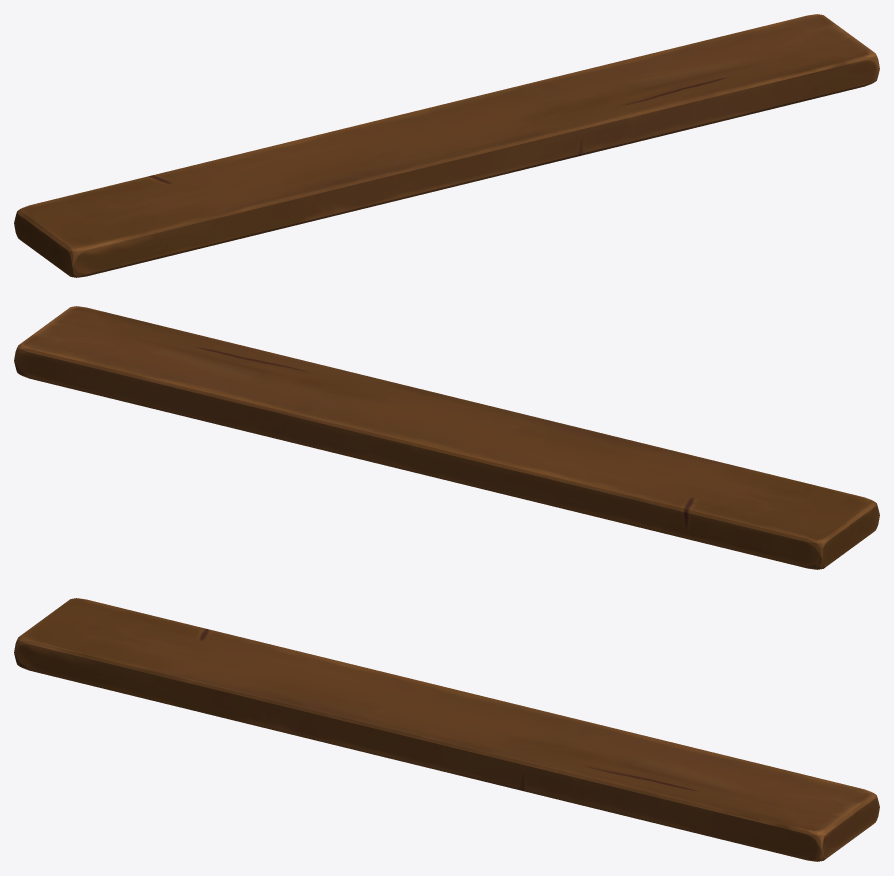
The model's file is Wooden_Plank_001.fbx.
3 views of the same model, one above another, from view 1: azimuth 30°, elevation 25°; view 2: azimuth 150°, elevation 25°; view 3: azimuth 330°, elevation 25° (orthographic).
Visible parts, largest first — view 1: Wooden_Plank_001; view 2: Wooden_Plank_001; view 3: Wooden_Plank_001.
Part boxes in pixels (<box>): Wooden_Plank_001: <box>14,14,879,277</box>; Wooden_Plank_001: <box>14,306,879,569</box>; Wooden_Plank_001: <box>14,598,879,861</box>.
Bounding box in the file's own units: 200 × 7 × 25.
1 material, 1 textured.
